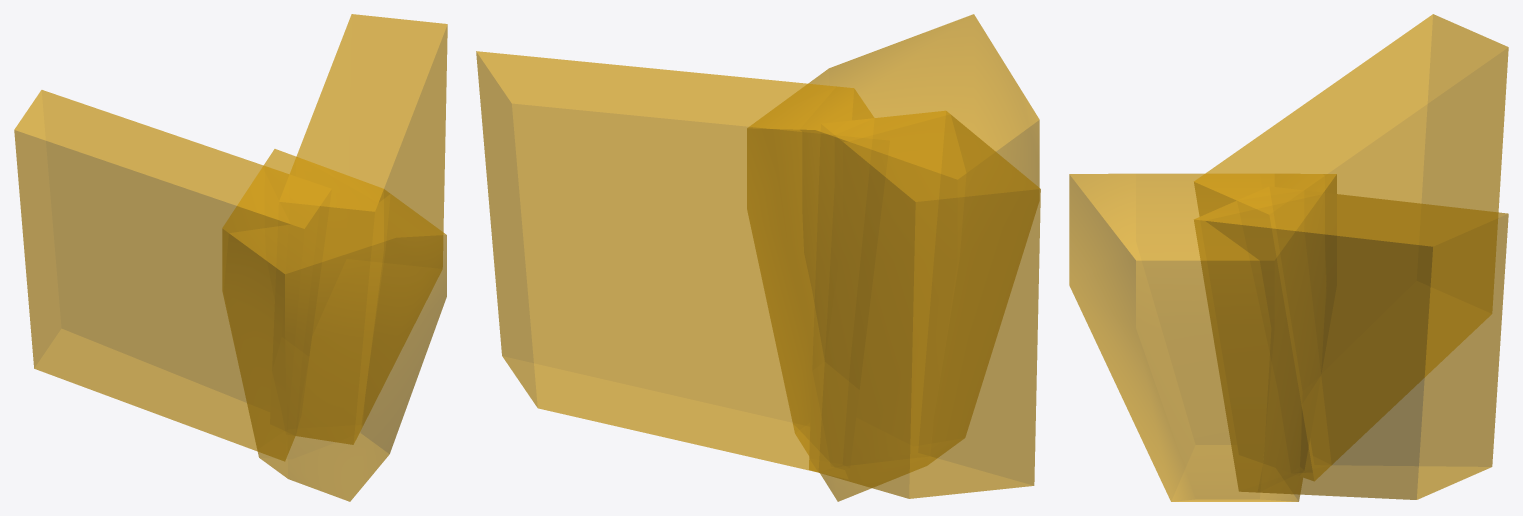
The model's file is SM_Veh_Ship_S_Figurehead_04_Collision.fbx.
3 renders of one model, left to right at view 1: azimuth 30°, elevation 25°; view 2: azimuth 150°, elevation 25°; view 3: azimuth 270°, elevation 25°, orthographic. The views are drawn at different scales.
Parts seen in each view (by area): view 1: SM_Veh_Ship_S_Figurehead_04_Collision; view 2: SM_Veh_Ship_S_Figurehead_04_Collision; view 3: SM_Veh_Ship_S_Figurehead_04_Collision.
Part boxes in pixels (x1,y1,x2,y2): SM_Veh_Ship_S_Figurehead_04_Collision: [14, 14, 447, 501]; SM_Veh_Ship_S_Figurehead_04_Collision: [476, 14, 1040, 501]; SM_Veh_Ship_S_Figurehead_04_Collision: [1069, 14, 1508, 501].
Size of the model in its own units: 445 by 331 by 355.
